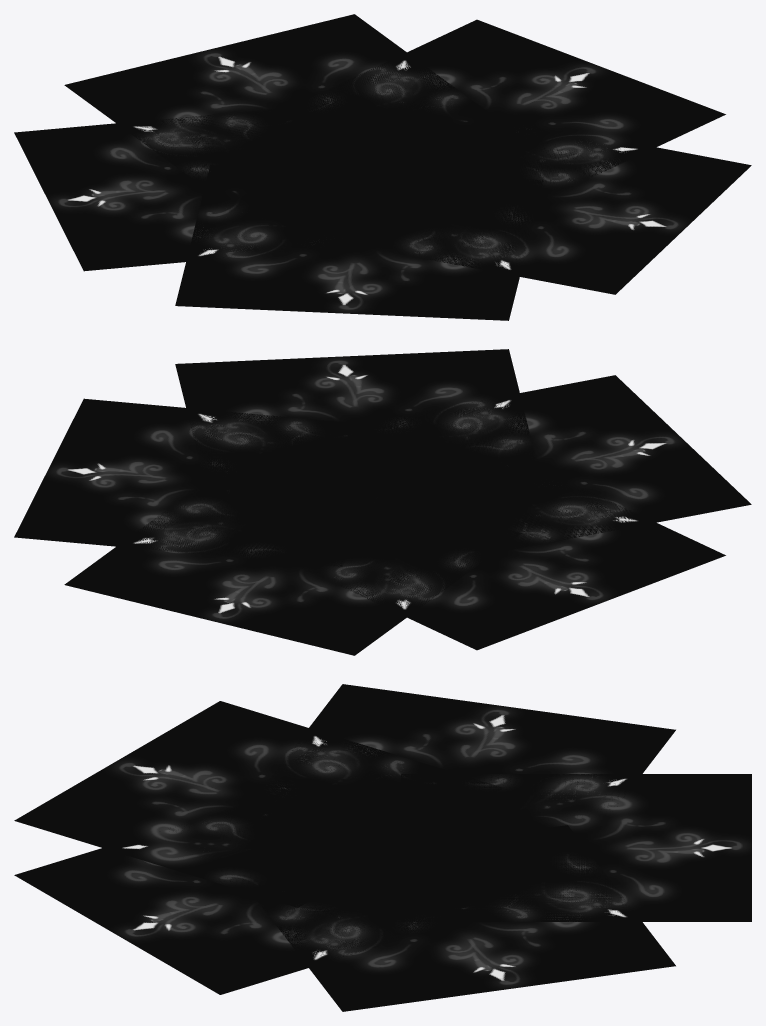
Rendered from FxPlane_Flow_2_2.fbx.
3 renders of one model, top to bottom at view 1: azimuth 30°, elevation 25°; view 2: azimuth 150°, elevation 25°; view 3: azimuth 270°, elevation 25°, orthographic. The views are drawn at different scales.
Parts seen in each view (by area): view 1: FxPlane_Flow_2_2; view 2: FxPlane_Flow_2_2; view 3: FxPlane_Flow_2_2.
Boxes of the visible parts, left/top/right/bottom form: FxPlane_Flow_2_2: left=14, top=14, right=751, bottom=320; FxPlane_Flow_2_2: left=14, top=349, right=751, bottom=655; FxPlane_Flow_2_2: left=14, top=684, right=751, bottom=1011.
Size of the model in its own units: 566 by 3.3e-14 by 538.
Materials: 1 (1 with a texture image).
